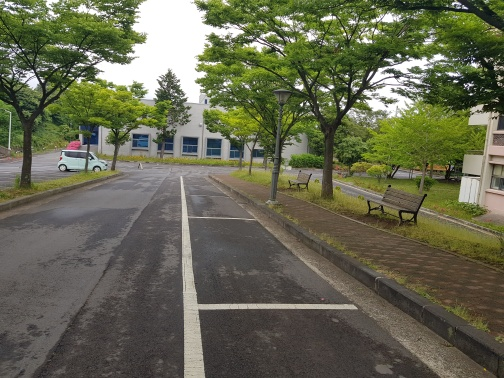College of Social Sciences: (76, 99, 317, 175)
